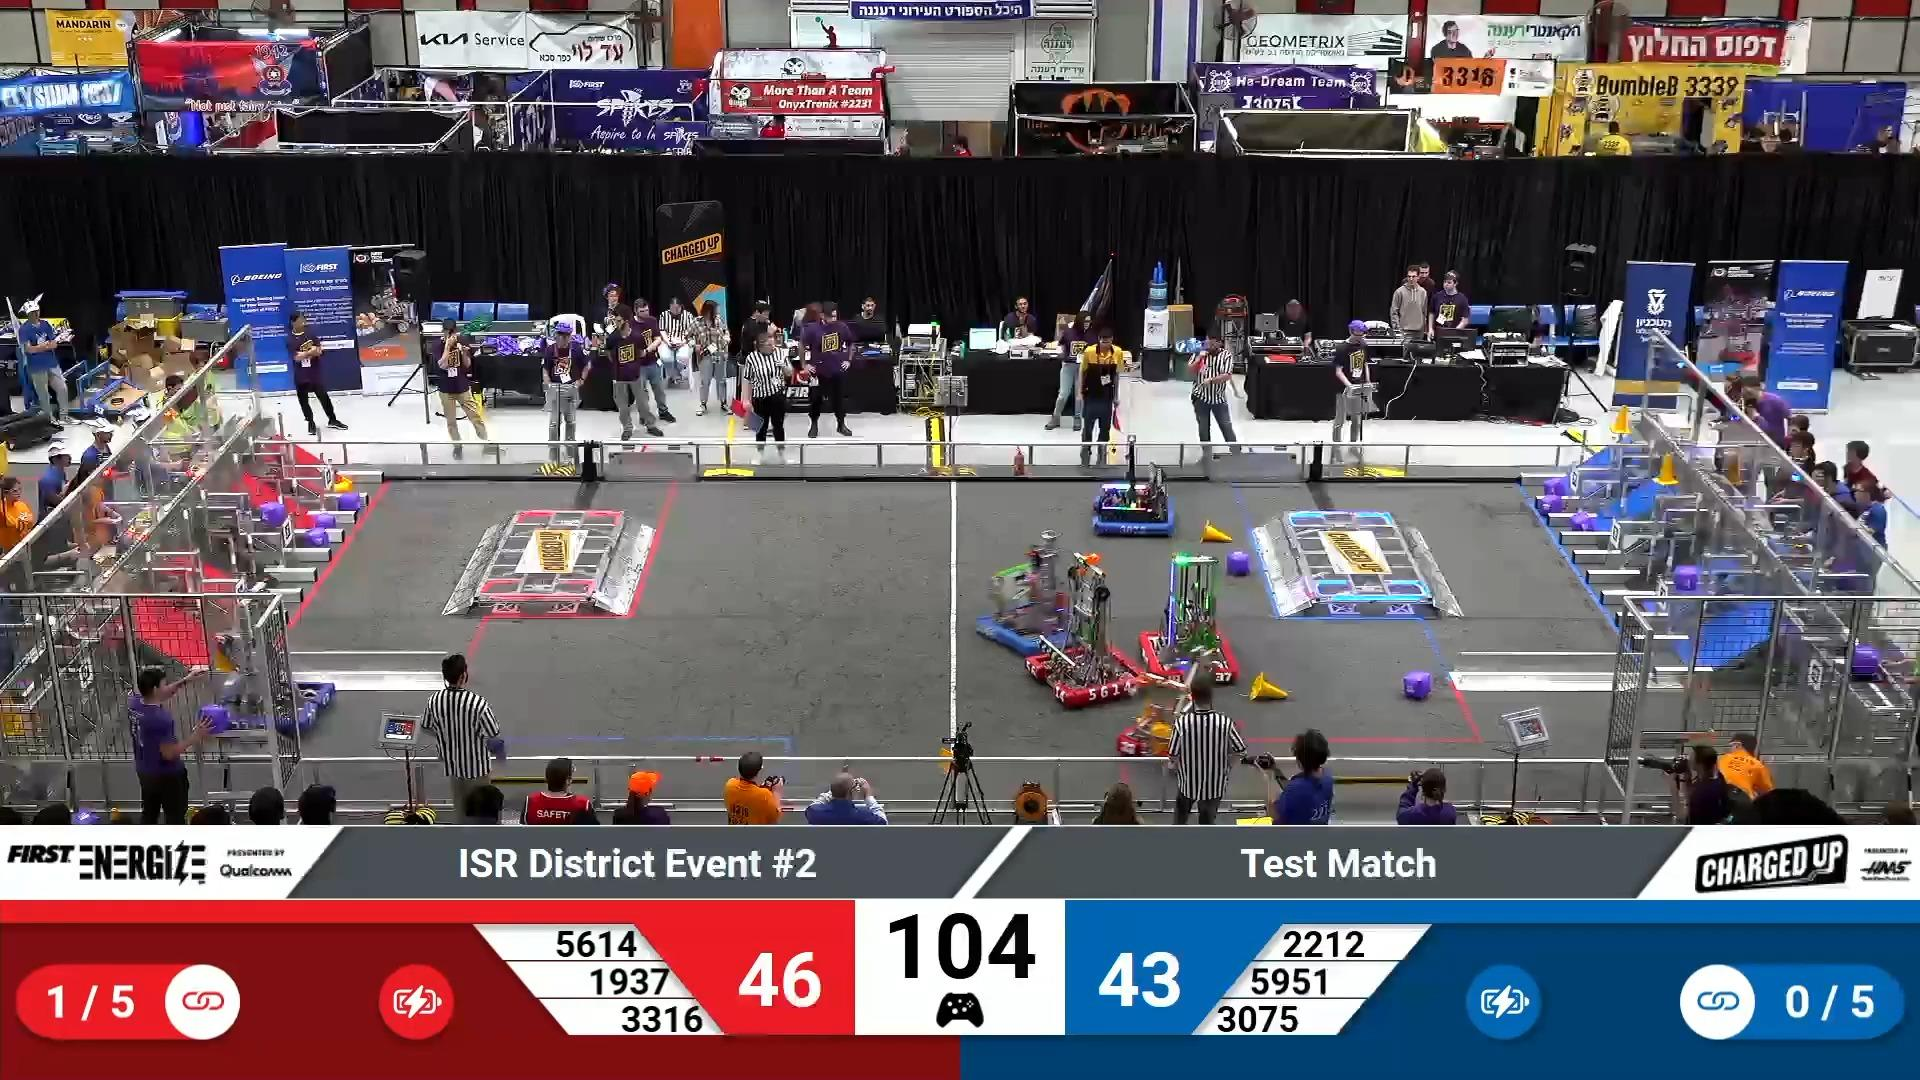robot: (204, 576, 334, 736), (1021, 567, 1139, 708), (972, 526, 1096, 655), (1138, 551, 1236, 684), (1089, 435, 1176, 535)
